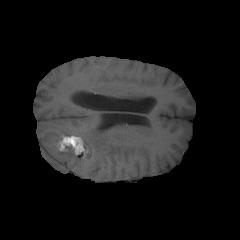glioma: (43, 123, 112, 176)
